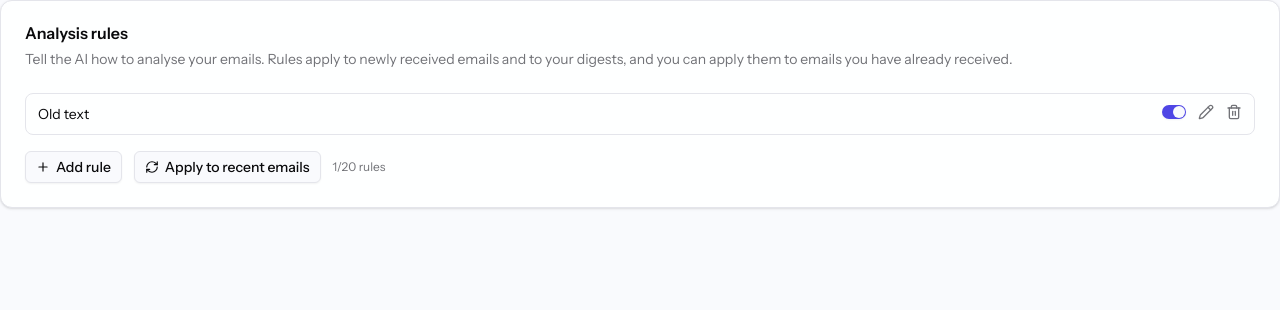
AnalysisRulesSettings › edits a rule
The width and height of the screenshot is (1280, 310).
Click the button named "Edit rule" at [1206, 112], box x1=1198 y1=104 x2=1214 y2=120
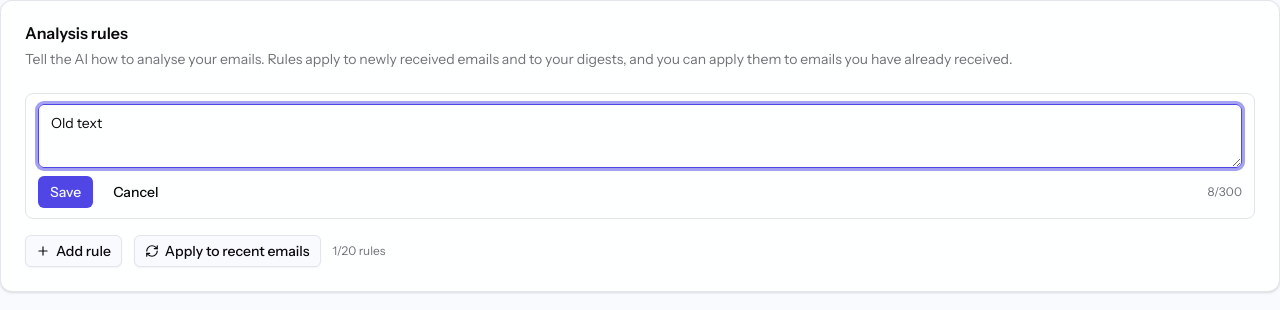
Replace the text in the text box named "Edit rule" with "New text" at [640, 136], box x1=38 y1=104 x2=1242 y2=168
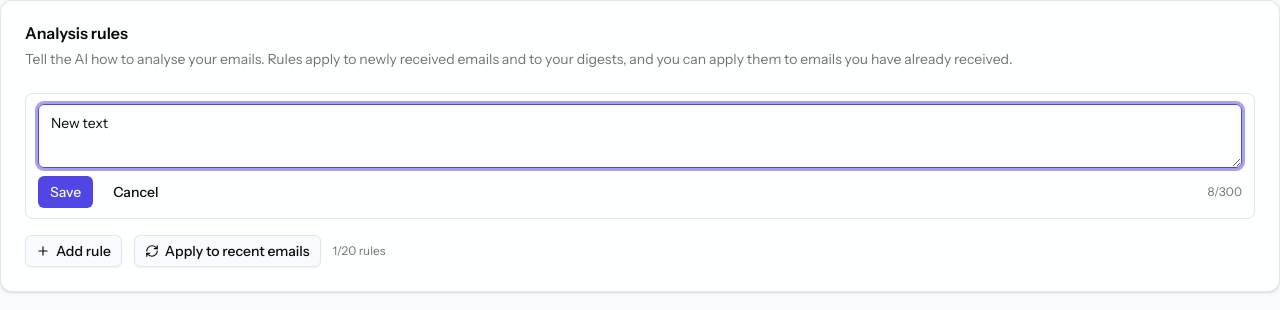
Click the button "Save" at [66, 192], box x1=38 y1=176 x2=93 y2=208
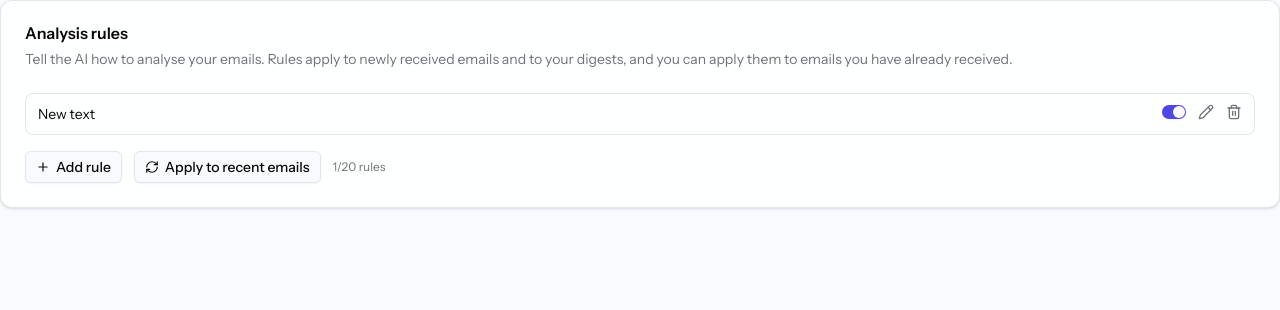
Check: the text "New text" is shown, box x1=38 y1=105 x2=95 y2=123
